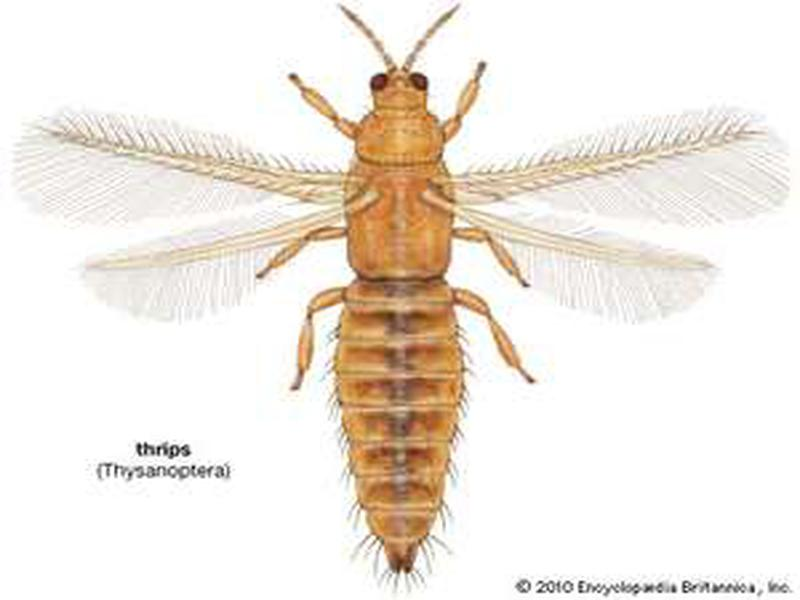Thrips: (246, 63, 523, 564)
